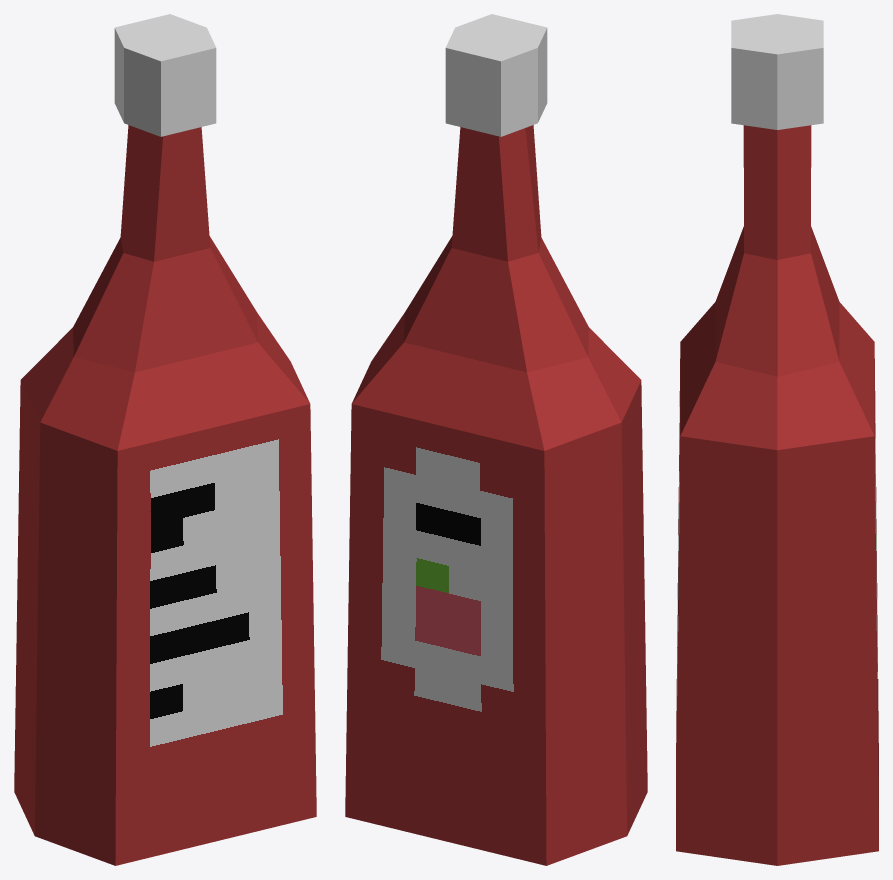
File: KetchupBottle.fbx
3 renders of one model, left to right at view 1: azimuth 30°, elevation 25°; view 2: azimuth 150°, elevation 25°; view 3: azimuth 270°, elevation 25°, orthographic.
Visible parts, largest first — view 1: Ketchup.019; view 2: Ketchup.019; view 3: Ketchup.019.
Boxes of the visible parts, bbox=[...] form: Ketchup.019: bbox=[14, 14, 316, 865]; Ketchup.019: bbox=[345, 14, 647, 865]; Ketchup.019: bbox=[676, 14, 878, 865].
Bounding box in the file's own units: 16 × 44.85 × 10.74.
